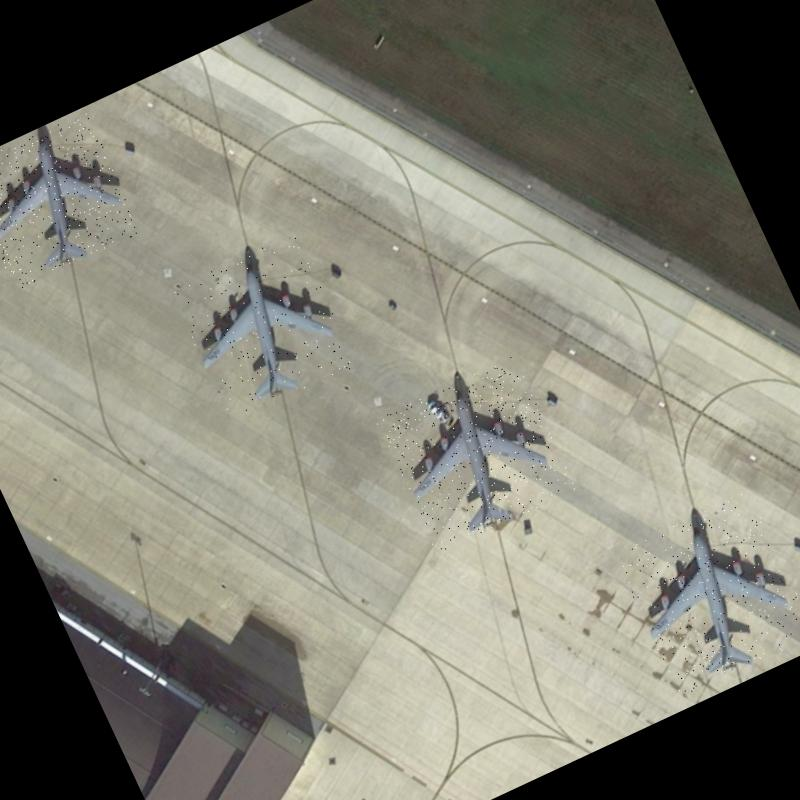A14: (374, 355, 576, 554), (613, 490, 800, 697), (166, 232, 357, 424), (0, 109, 142, 290)
